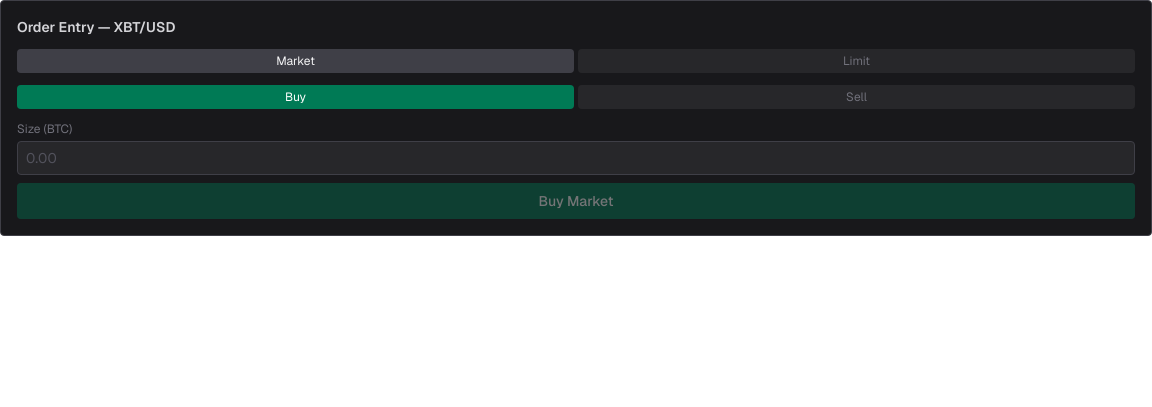
Test case: OrderEntry › market preview (slippage display) › shows insufficient liquidity warning when order exceeds available depth
Type "5" into the number field labelled "Size (BTC)" at point(576, 158), box [17,141,1135,175]
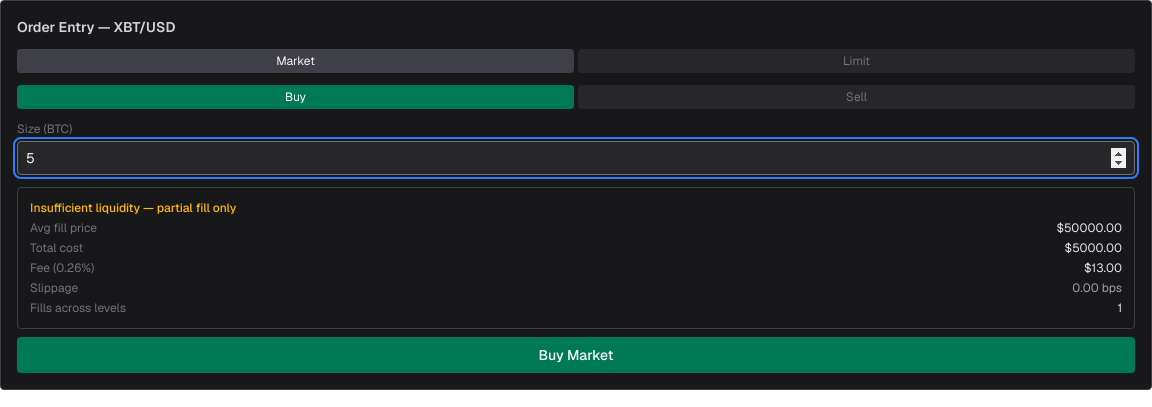
Expected: the text "Insufficient liquidity — partial fill only" is shown, [30,200,236,216]
